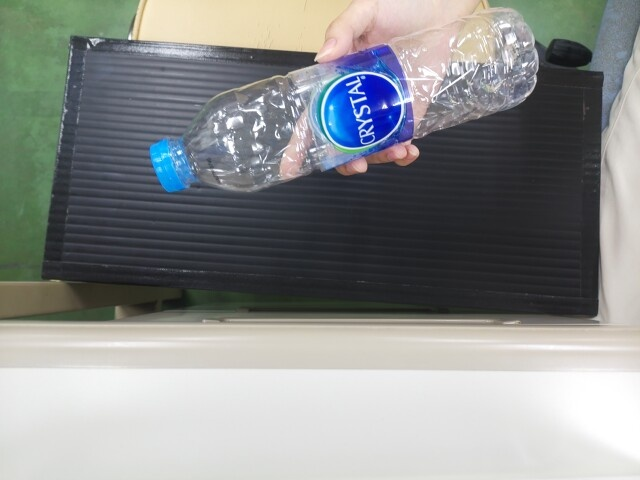plastic_bottle: (148, 57, 415, 190)
